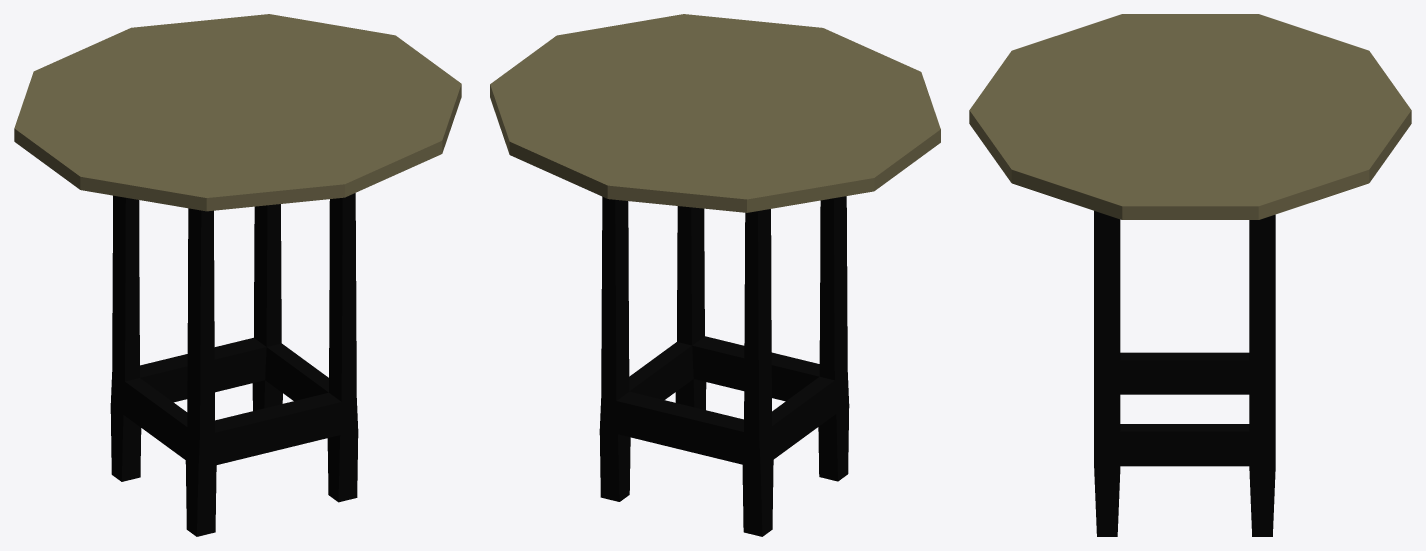
Rendered from mesita 2.glb.
3 renders of one model, left to right at view 1: azimuth 30°, elevation 25°; view 2: azimuth 150°, elevation 25°; view 3: azimuth 270°, elevation 25°, orthographic. The views are drawn at different scales.
Visible parts, largest first — view 1: 2 mesita; view 2: 2 mesita; view 3: 2 mesita.
Part boxes in pixels (x1,y1,x2,y2): 2 mesita: [14, 14, 461, 536]; 2 mesita: [490, 14, 940, 536]; 2 mesita: [969, 14, 1411, 536].
Bounding box in the file's own units: 1.83 × 1.72 × 1.77.
